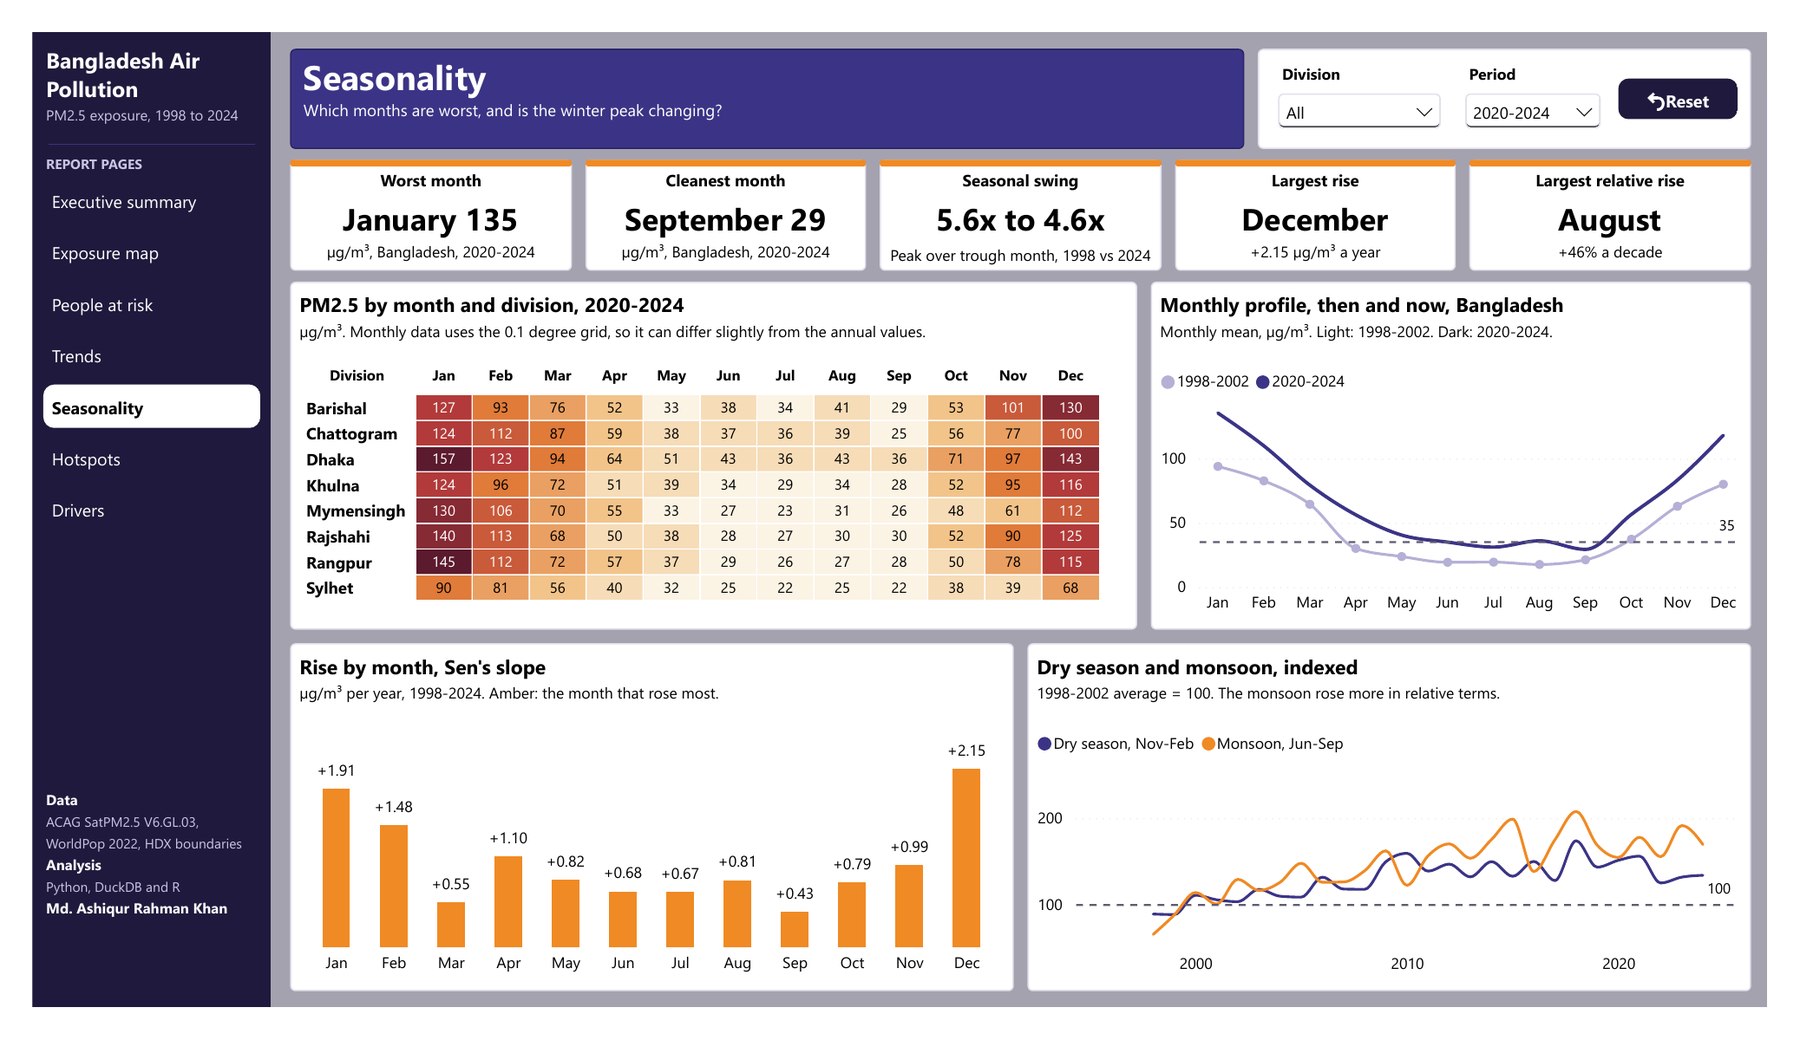

What the dashboard file says about the page in this screenshot:
{"tool":"powerbi","page":{"name":"Seasonality","canvas":[1280,720],"ordinal":4},"visuals":[{"type":"shape","box":[0,0,176,720],"z":1100},{"type":"textbox","box":[8,8,160,72],"z":1200},{"type":"shape","box":[12,82,152,1],"z":1300},{"type":"textbox","box":[8,86,160,20],"z":1400},{"type":"actionButton","box":[8,108,160,32],"z":1500},{"type":"actionButton","box":[8,146,160,32],"z":1600},{"type":"actionButton","box":[8,184,160,32],"z":1700},{"type":"actionButton","box":[8,222,160,32],"z":1800},{"type":"actionButton","box":[8,260,160,32],"z":1900},{"type":"actionButton","box":[8,298,160,32],"z":2000},{"type":"actionButton","box":[8,336,160,32],"z":2100},{"type":"textbox","box":[8,556,160,156],"z":2200},{"type":"shape","box":[190,12,704,74],"z":2300},{"type":"textbox","box":[198,14,688,70],"z":2400},{"type":"shape","box":[904,12,364,74],"z":2500},{"type":"slicer","fields":{"Values":["dim_geo.division"]},"box":[914,23,130,52],"z":2600},{"type":"slicer","fields":{"Values":["Period.Period"]},"box":[1052,23,110,52],"z":2700},{"type":"actionButton","box":[1170,34,88,30],"z":2800},{"type":"shape","box":[190,94,207.6,82],"z":2900},{"type":"shape","box":[190,94,207.6,5],"z":3000},{"type":"card","title":"Worst month","fields":{"Values":["_Measures.KPI Worst Month"]},"box":[194,99,199.6,58],"z":3100},{"type":"card","fields":{"Values":["_Measures.Sub Month Period"]},"box":[193,156,201.6,18],"z":3200},{"type":"shape","box":[407.6,94,207.6,82],"z":3300},{"type":"shape","box":[407.6,94,207.6,5],"z":3400},{"type":"card","title":"Cleanest month","fields":{"Values":["_Measures.KPI Cleanest Month"]},"box":[411.6,99,199.6,58],"z":3500},{"type":"card","fields":{"Values":["_Measures.Sub Month Period"]},"box":[410.6,156,201.6,18],"z":3600},{"type":"shape","box":[625.2,94,207.6,82],"z":3700},{"type":"shape","box":[625.2,94,207.6,5],"z":3800},{"type":"card","title":"Seasonal swing","fields":{"Values":["_Measures.KPI Swing"]},"box":[629.2,99,199.6,58],"z":3900},{"type":"textbox","box":[628.2,155,201.6,20],"z":4000},{"type":"shape","box":[842.8,94,207.6,82],"z":4100},{"type":"shape","box":[842.8,94,207.6,5],"z":4200},{"type":"card","title":"Largest rise","fields":{"Values":["_Measures.KPI Largest Rise Month"]},"box":[846.8,99,199.6,58],"z":4300},{"type":"card","fields":{"Values":["_Measures.Sub Largest Rise Month"]},"box":[845.8,156,201.6,18],"z":4400},{"type":"shape","box":[1060.4,94,207.6,82],"z":4500},{"type":"shape","box":[1060.4,94,207.6,5],"z":4600},{"type":"card","title":"Largest relative rise","fields":{"Values":["_Measures.KPI Largest Pct Month"]},"box":[1064.4,99,199.6,58],"z":4700},{"type":"card","fields":{"Values":["_Measures.Sub Largest Pct Month"]},"box":[1063.4,156,201.6,18],"z":4800},{"type":"pivotTable","fields":{"Columns":["dim_month.month_short"],"Rows":["dim_geo.name"],"Values":["_Measures.Month Value Period"]},"box":[190,184,624.7,257],"z":4900},{"type":"lineChart","fields":{"Category":["dim_month.month_short"],"Y":["_Measures.Month Base Focus","_Measures.Month Recent Focus"]},"box":[824.7,184,443.3,257],"z":5000},{"type":"clusteredColumnChart","title":"Rise by month, Sen''s slope","fields":{"Category":["dim_month.month_short"],"Y":["_Measures.Month Sen Focus"]},"box":[190,451,534,257],"z":5100},{"type":"lineChart","title":"Dry season and monsoon, indexed","fields":{"Category":["dim_year.year"],"Y":["_Measures.Season Index Dry","_Measures.Season Index Monsoon"]},"box":[734,451,534,257],"z":5200}]}

Visuals, with their boxes on the page's 1280x720 design canvas (x1, y1, x2, y2). These are canvas units, not pixel positions in the 1800x1040 screenshot, which may show the page scaled, cropped or inside an application window:
shape: rect(0, 0, 176, 720)
textbox: rect(8, 8, 168, 80)
shape: rect(12, 82, 164, 83)
textbox: rect(8, 86, 168, 106)
actionButton: rect(8, 108, 168, 140)
actionButton: rect(8, 146, 168, 178)
actionButton: rect(8, 184, 168, 216)
actionButton: rect(8, 222, 168, 254)
actionButton: rect(8, 260, 168, 292)
actionButton: rect(8, 298, 168, 330)
actionButton: rect(8, 336, 168, 368)
textbox: rect(8, 556, 168, 712)
shape: rect(190, 12, 894, 86)
textbox: rect(198, 14, 886, 84)
shape: rect(904, 12, 1268, 86)
slicer - dim_geo.division: rect(914, 23, 1044, 75)
slicer - Period.Period: rect(1052, 23, 1162, 75)
actionButton: rect(1170, 34, 1258, 64)
shape: rect(190, 94, 398, 176)
shape: rect(190, 94, 398, 99)
"Worst month" card: rect(194, 99, 394, 157)
card - _Measures.Sub Month Period: rect(193, 156, 395, 174)
shape: rect(408, 94, 615, 176)
shape: rect(408, 94, 615, 99)
"Cleanest month" card: rect(412, 99, 611, 157)
card - _Measures.Sub Month Period: rect(411, 156, 612, 174)
shape: rect(625, 94, 833, 176)
shape: rect(625, 94, 833, 99)
"Seasonal swing" card: rect(629, 99, 829, 157)
textbox: rect(628, 155, 830, 175)
shape: rect(843, 94, 1050, 176)
shape: rect(843, 94, 1050, 99)
"Largest rise" card: rect(847, 99, 1046, 157)
card - _Measures.Sub Largest Rise Month: rect(846, 156, 1047, 174)
shape: rect(1060, 94, 1268, 176)
shape: rect(1060, 94, 1268, 99)
"Largest relative rise" card: rect(1064, 99, 1264, 157)
card - _Measures.Sub Largest Pct Month: rect(1063, 156, 1265, 174)
pivotTable - dim_month.month_short x dim_geo.name: rect(190, 184, 815, 441)
lineChart - dim_month.month_short x _Measures.Month Base Focus: rect(825, 184, 1268, 441)
"Rise by month, Sen''s slope" clusteredColumnChart: rect(190, 451, 724, 708)
"Dry season and monsoon, indexed" lineChart: rect(734, 451, 1268, 708)
